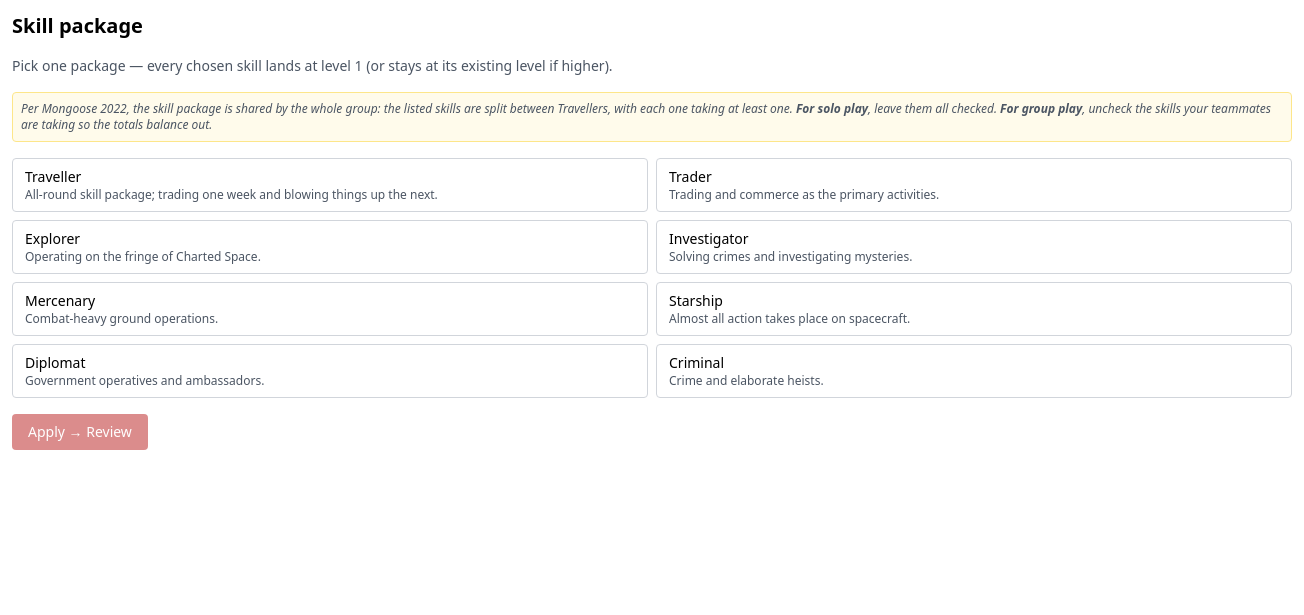
Test: SkillPackageStep — checklist subset selection › after picking a package, every skill is checked by default
What coordinates should you click on to do the following:
click the button "Traveller"
I would click on:
 (330, 185)
Its box is [12,158,648,212].
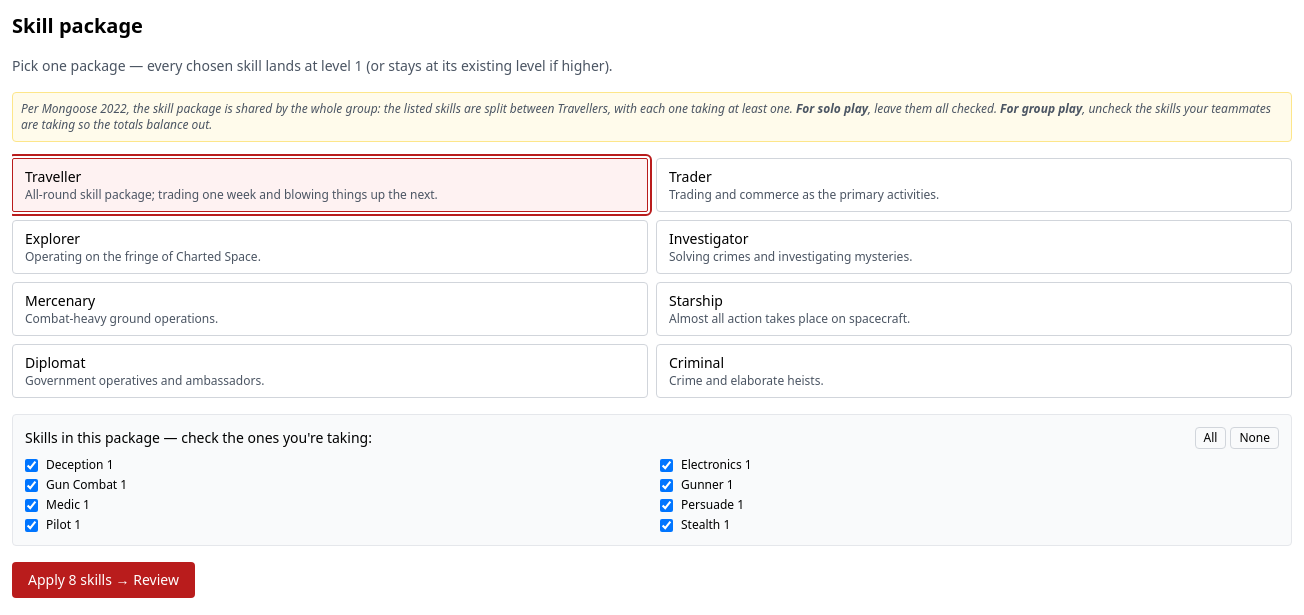
Expected: the number of checkboxes is 8
Expected: the checkbox labelled "Deception 1" is checked, [25,458,38,472]
Expected: the checkbox labelled "Electronics 1" is checked, [660,458,673,472]
